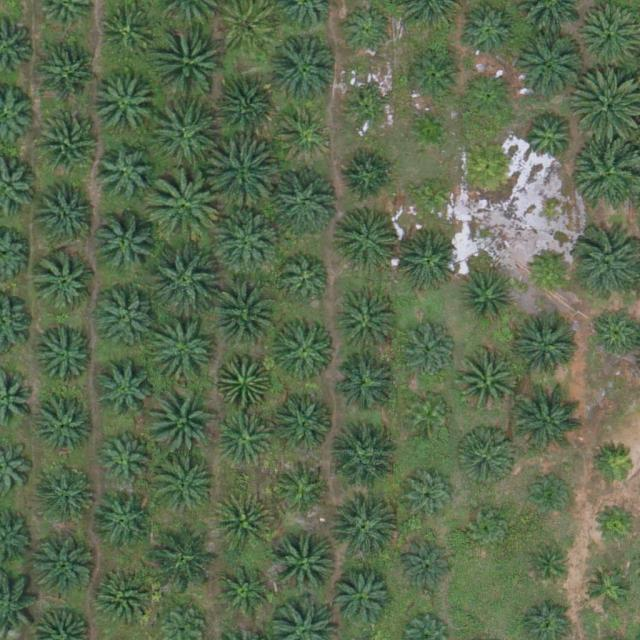Healthy: (151, 521, 222, 592), (150, 245, 221, 316), (151, 318, 222, 388), (149, 172, 219, 243), (148, 101, 218, 172), (214, 206, 284, 277), (273, 530, 343, 601), (270, 165, 340, 236), (327, 422, 397, 493), (269, 34, 339, 105), (155, 23, 225, 94), (514, 29, 584, 100), (151, 452, 221, 522), (147, 383, 217, 453), (206, 140, 276, 210), (209, 278, 279, 348), (327, 494, 397, 564), (516, 385, 586, 455), (90, 568, 153, 631), (34, 535, 97, 598), (35, 324, 98, 387), (35, 112, 98, 175), (92, 75, 155, 138), (212, 492, 275, 555), (274, 394, 337, 457), (337, 294, 400, 357), (394, 231, 457, 294), (332, 570, 394, 633), (39, 464, 101, 527), (34, 395, 96, 458), (35, 252, 97, 315), (96, 144, 158, 207), (95, 213, 157, 276), (94, 286, 157, 348), (92, 360, 154, 423), (94, 493, 156, 556), (274, 317, 336, 380), (335, 208, 398, 270), (336, 351, 398, 414), (456, 351, 518, 414), (457, 425, 519, 488), (517, 313, 579, 376), (37, 42, 99, 105), (40, 181, 102, 243), (215, 78, 277, 140), (461, 69, 516, 124), (278, 108, 333, 163), (219, 411, 274, 466), (217, 568, 272, 623), (278, 458, 333, 513), (340, 148, 395, 203), (399, 541, 454, 596), (403, 467, 458, 522), (460, 271, 515, 326), (462, 4, 517, 59), (405, 50, 460, 105), (339, 5, 394, 60), (99, 4, 154, 59), (98, 431, 152, 486), (218, 353, 272, 408), (281, 254, 335, 309), (402, 321, 456, 376), (521, 111, 575, 166)
Small: (406, 107, 453, 155), (526, 247, 573, 294), (347, 89, 394, 136), (593, 442, 640, 489), (406, 392, 453, 439), (527, 473, 574, 520), (584, 567, 631, 614), (467, 507, 514, 554), (593, 502, 640, 549), (526, 543, 573, 590), (408, 175, 455, 222)
Yellow: (461, 139, 516, 195)
